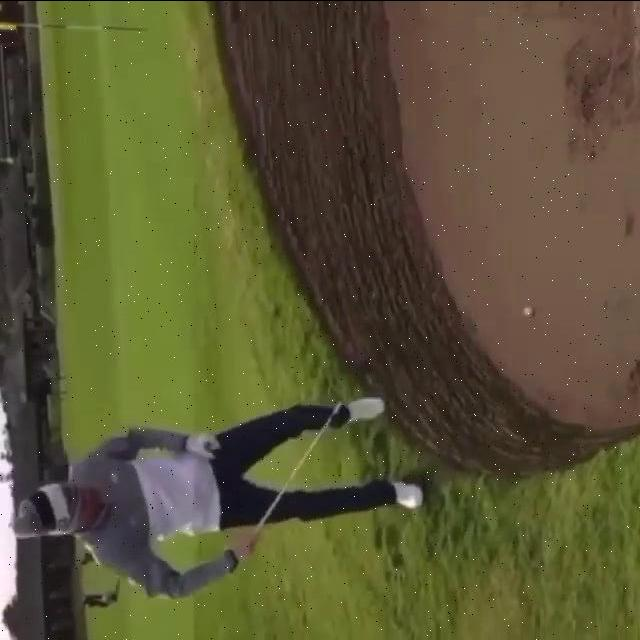golf ball: (523, 306, 534, 316)
golf club-handle: (252, 400, 346, 536)
golf club-head: (334, 400, 346, 413)
